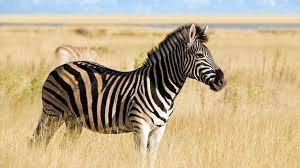Zebra: (35, 24, 225, 157)
